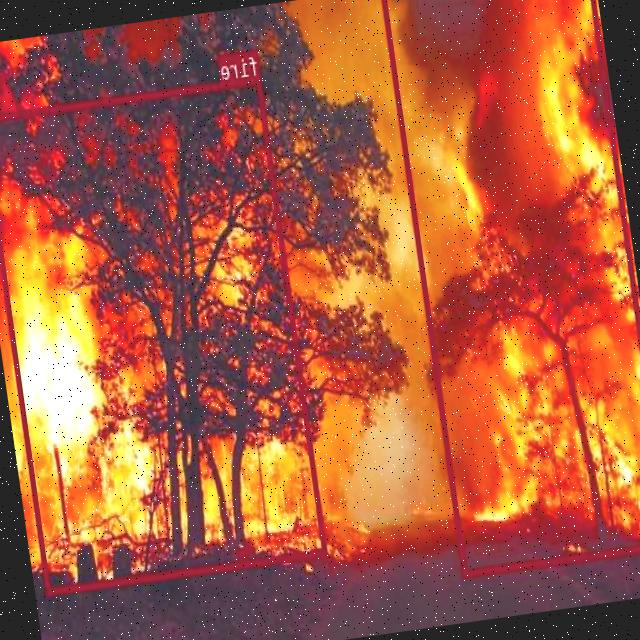fire: (0, 75, 329, 595), (381, 0, 640, 575)
